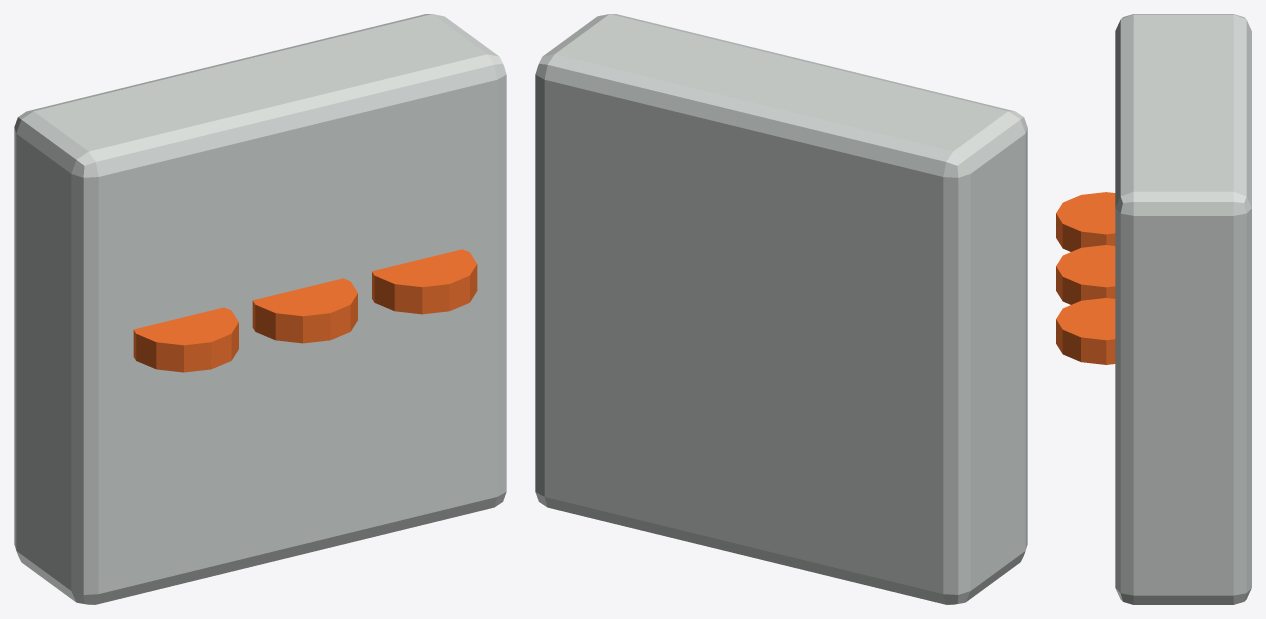
Rendered from LPK_TetherRack_2m.fbx.
The picture shows the model from 3 angles, left to right: view 1: azimuth 30°, elevation 25°; view 2: azimuth 150°, elevation 25°; view 3: azimuth 270°, elevation 25°; orthographic projection. The views are drawn at different scales.
Visible parts, largest first — view 1: RackBody, TetherSpool.001, TetherSpool, TetherSpool.002; view 2: RackBody; view 3: RackBody, TetherSpool.002, TetherSpool, TetherSpool.001.
Boxes of the visible parts, x1=… form: RackBody: x1=14, y1=14, x2=506, y2=604; TetherSpool.001: x1=252, y1=278, x2=357, y2=343; TetherSpool: x1=133, y1=307, x2=238, y2=372; TetherSpool.002: x1=372, y1=249, x2=477, y2=314; RackBody: x1=535, y1=14, x2=1027, y2=604; RackBody: x1=1115, y1=14, x2=1251, y2=604; TetherSpool.002: x1=1056, y1=298, x2=1115, y2=364; TetherSpool: x1=1056, y1=192, x2=1115, y2=251; TetherSpool.001: x1=1056, y1=245, x2=1115, y2=304.
Bounding box in the file's own units: 2 × 2 × 0.86.
